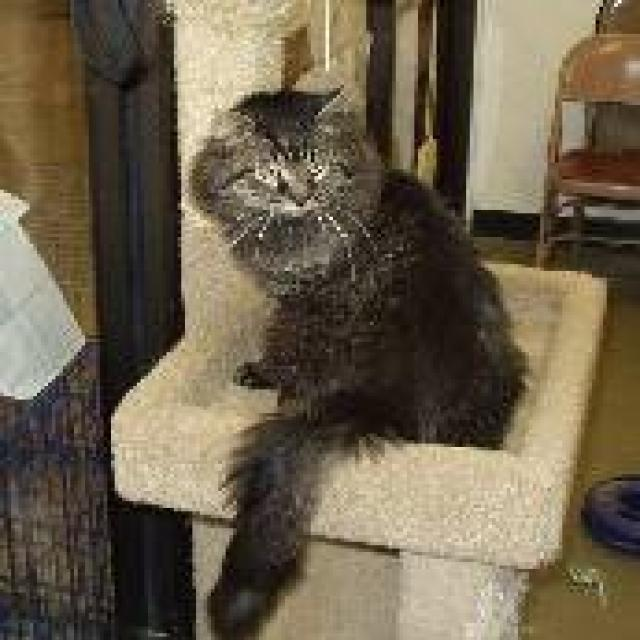Cat: (186, 85, 411, 290)
